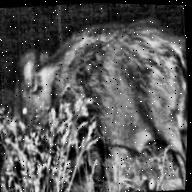boar: (3, 0, 192, 170)
